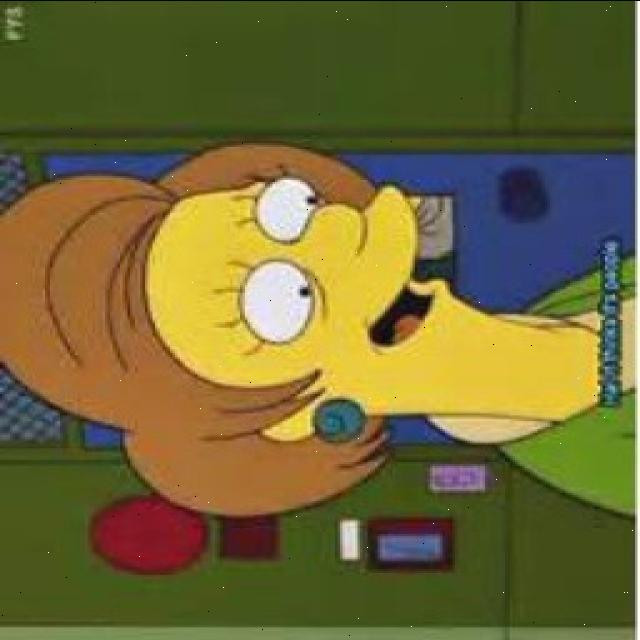Edna Krappel: (0, 137, 552, 528)
